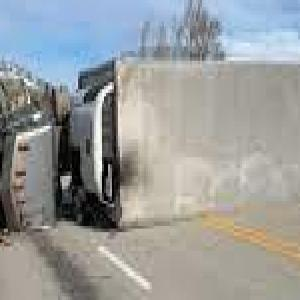serious: (0, 36, 300, 235)
